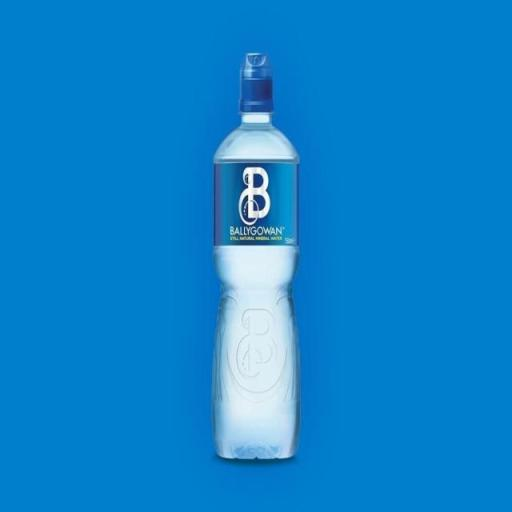plastic: (208, 48, 305, 466)
